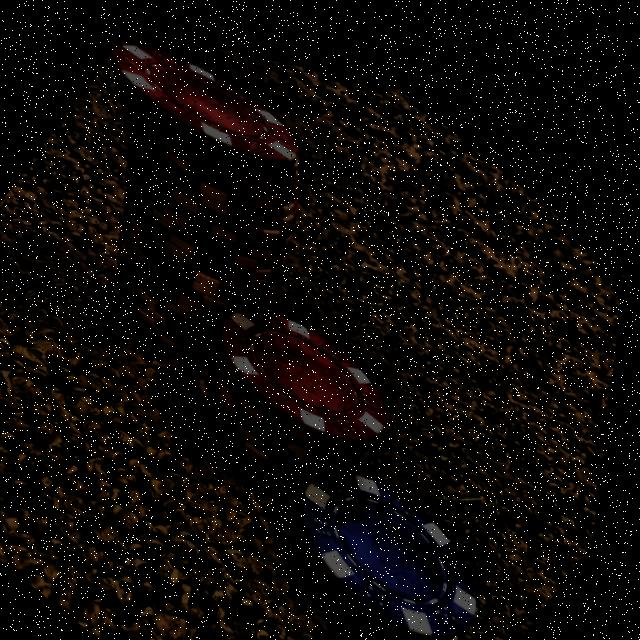Chip: (0, 3, 379, 400), (164, 251, 424, 519), (258, 410, 529, 640)
